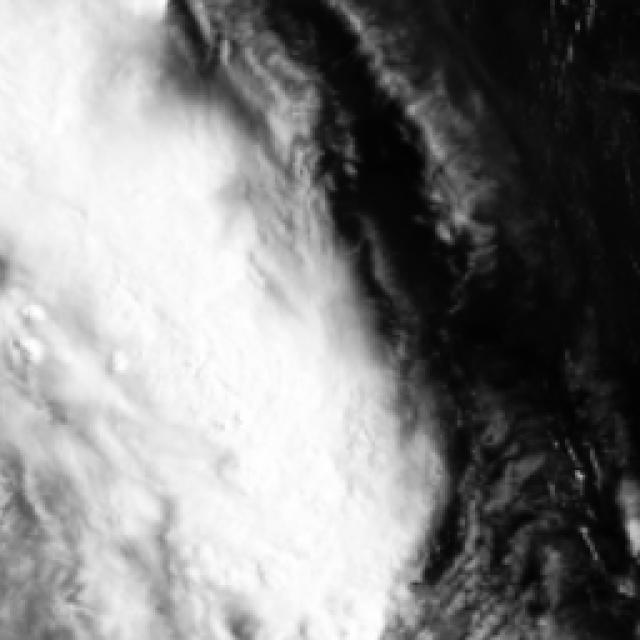CB: (2, 2, 144, 248), (184, 268, 324, 497), (228, 358, 358, 576), (89, 121, 198, 340)
